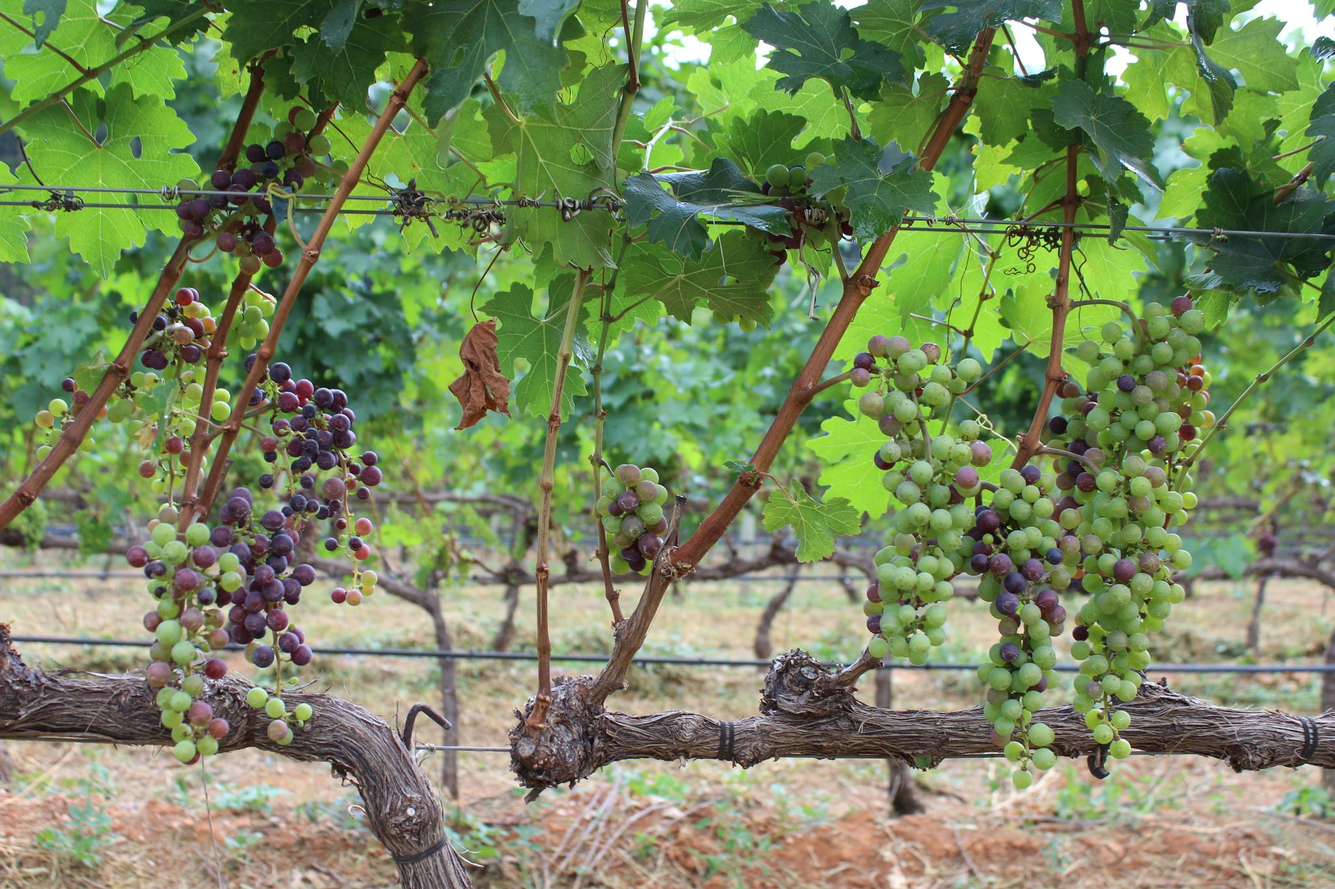Grape Unripe: (853, 335, 985, 665), (1073, 460, 1198, 758), (1047, 293, 1214, 489), (126, 503, 245, 764), (973, 464, 1069, 787), (270, 362, 382, 605), (176, 106, 342, 261), (223, 487, 315, 744), (121, 288, 245, 466), (601, 464, 667, 575)
